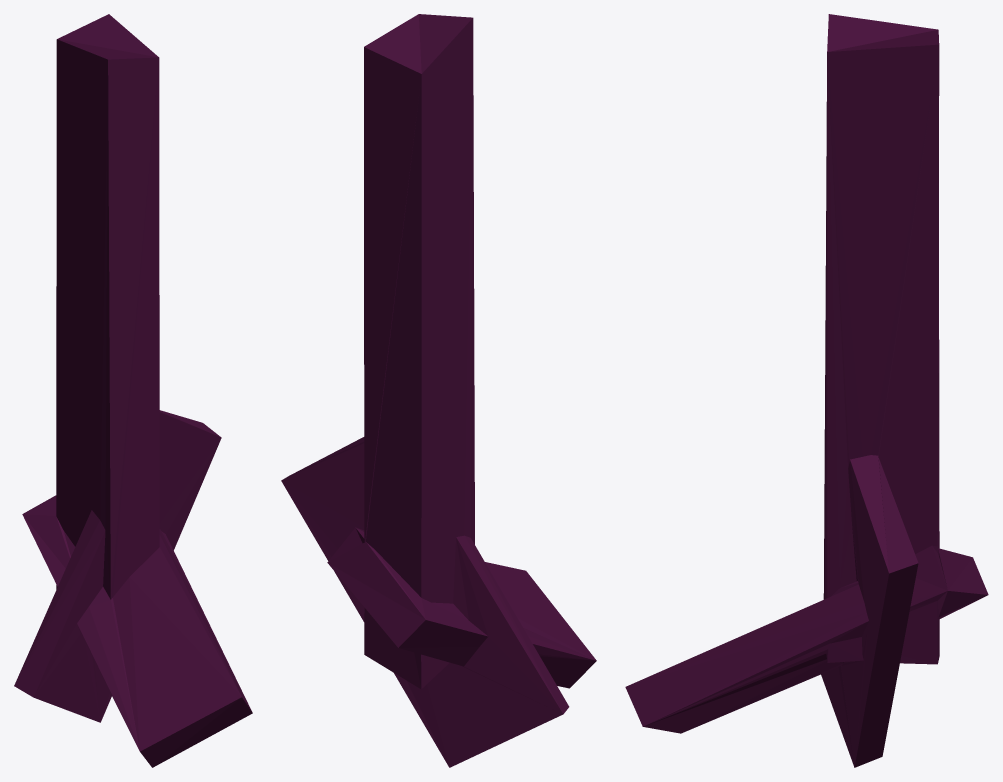
3 renders of one model, left to right at view 1: azimuth 30°, elevation 25°; view 2: azimuth 150°, elevation 25°; view 3: azimuth 270°, elevation 25°, orthographic. The views are drawn at different scales.
Visible parts, largest first — view 1: 815_Cube.3286; view 2: 815_Cube.3286; view 3: 815_Cube.3286.
Boxes of the visible parts, bbox=[...] form: 815_Cube.3286: bbox=[14, 14, 252, 767]; 815_Cube.3286: bbox=[281, 14, 596, 767]; 815_Cube.3286: bbox=[625, 14, 988, 767].
Size of the model in its own units: 5.12 by 14.38 by 6.3.
